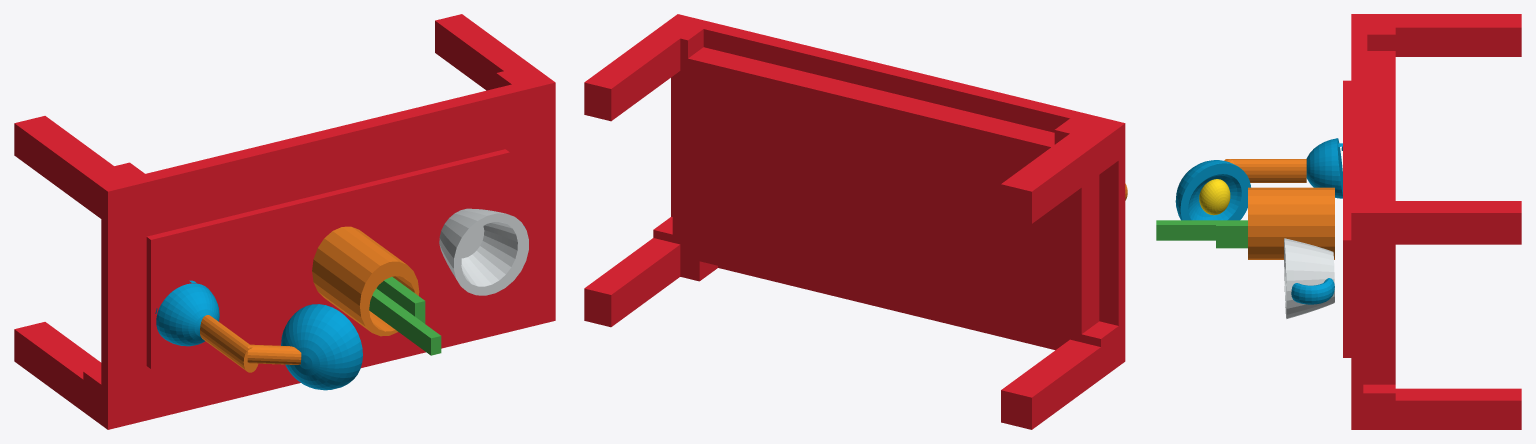
Rendered from tinker.obj.
3 renders of one model, left to right at view 1: azimuth 30°, elevation 25°; view 2: azimuth 150°, elevation 25°; view 3: azimuth 270°, elevation 25°, orthographic. The views are drawn at different scales.
Parts seen in each view (by area): view 1: group_0_15277357, group_0_16089887, group_0_40919, group_0_14541540, group_0_4634441; view 2: group_0_15277357; view 3: group_0_15277357, group_0_16089887, group_0_40919, group_0_14541540, group_0_4634441, group_0_16768282.
Part boxes in pixels (x1=…): group_0_15277357: x1=14, y1=14, x2=555, y2=429; group_0_16089887: x1=200, y1=226, x2=419, y2=372; group_0_40919: x1=155, y1=226, x2=524, y2=390; group_0_14541540: x1=439, y1=208, x2=528, y2=295; group_0_4634441: x1=369, y1=277, x2=441, y2=355; group_0_15277357: x1=584, y1=14, x2=1125, y2=429; group_0_15277357: x1=1343, y1=14, x2=1521, y2=429; group_0_16089887: x1=1224, y1=159, x2=1334, y2=259; group_0_40919: x1=1175, y1=138, x2=1342, y2=304; group_0_14541540: x1=1284, y1=238, x2=1334, y2=318; group_0_4634441: x1=1156, y1=220, x2=1247, y2=248; group_0_16768282: x1=1199, y1=179, x2=1230, y2=215.
Size of the model in its own units: 116 by 59 by 90.
